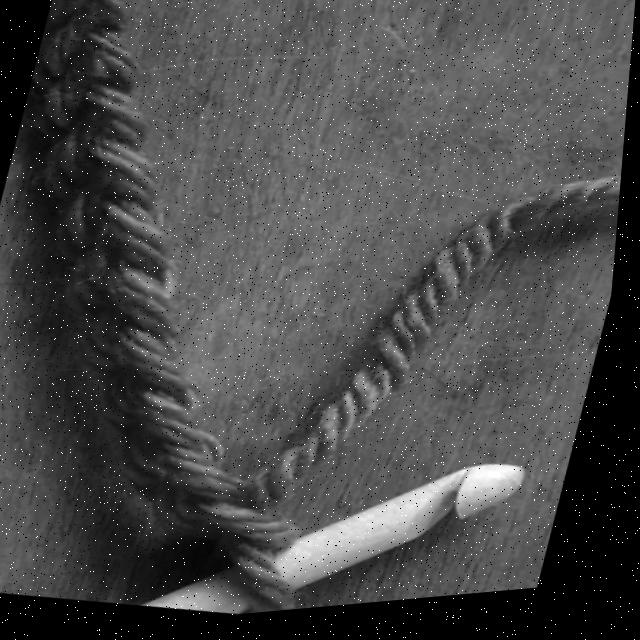ch: (37, 54, 150, 152), (68, 227, 179, 320), (85, 271, 182, 374), (59, 170, 167, 262), (126, 413, 237, 498), (52, 112, 155, 200), (112, 343, 203, 429), (35, 19, 139, 92), (172, 471, 268, 543), (42, 0, 137, 45)
